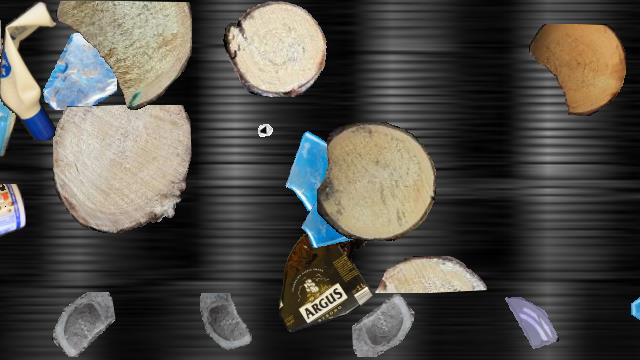glass: (283, 124, 375, 216), (40, 33, 116, 109), (195, 293, 261, 359), (51, 292, 115, 356), (301, 190, 365, 254), (352, 294, 414, 356), (502, 295, 560, 353), (627, 269, 640, 359)
metal: (255, 107, 293, 145), (0, 252, 6, 300)
plastic: (279, 224, 373, 332), (0, 1, 63, 139), (0, 35, 16, 209), (0, 184, 26, 254)
wood: (53, 105, 191, 233), (56, 1, 192, 109), (317, 122, 435, 240), (223, 1, 327, 97), (529, 24, 625, 116), (373, 256, 487, 292), (0, 1, 1, 63)
